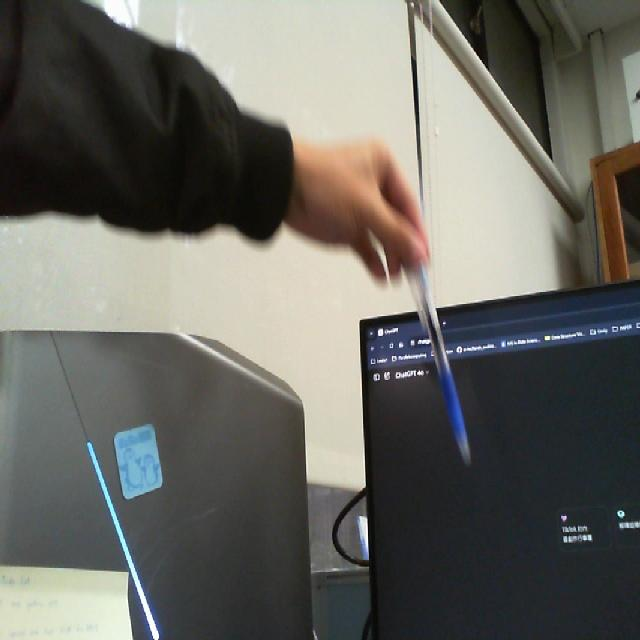Pen: (385, 219, 492, 488)
